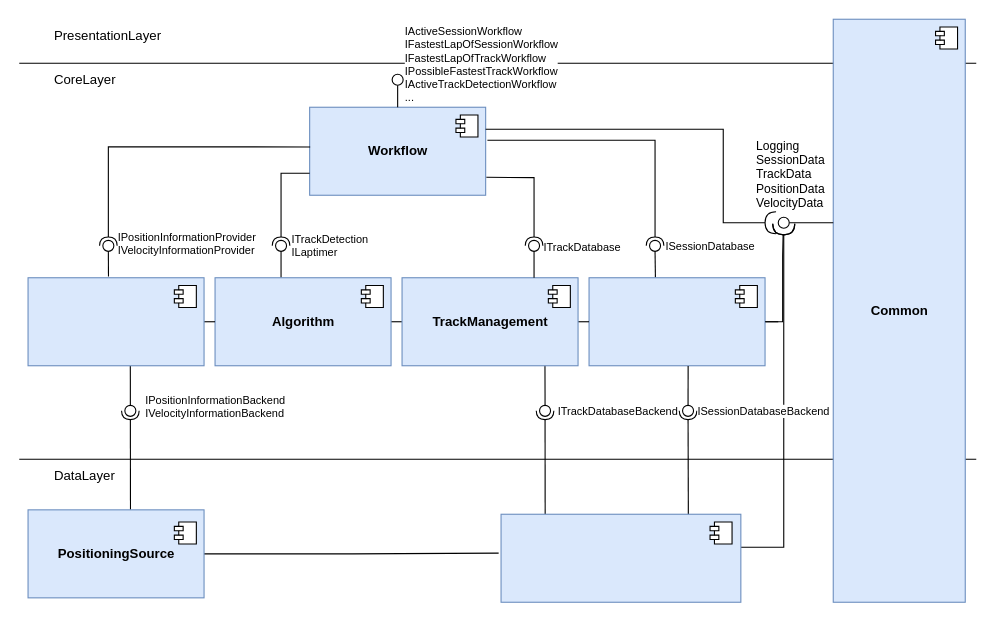
The diagram is 997 pixels wide and 622 high, and some of its shapes have lost their labels. The centre of each missing label's shape, as x and y in pixels:
DataStorage: point (620, 557)
Positioning: point (115, 321)
SessionManagement: point (676, 321)
